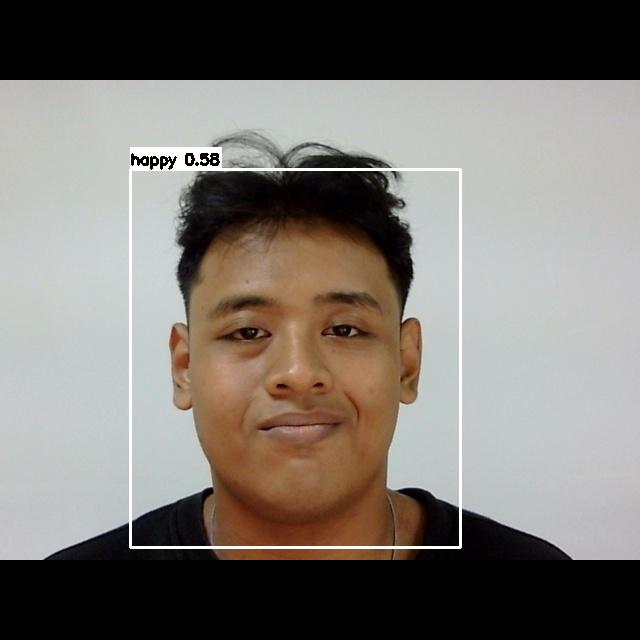Happy: (187, 277, 406, 488)
